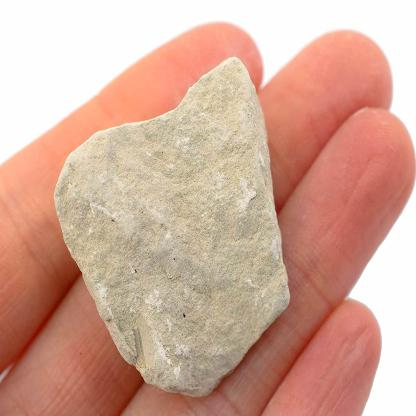Sedimentary_Chalk: (50, 44, 310, 393)
